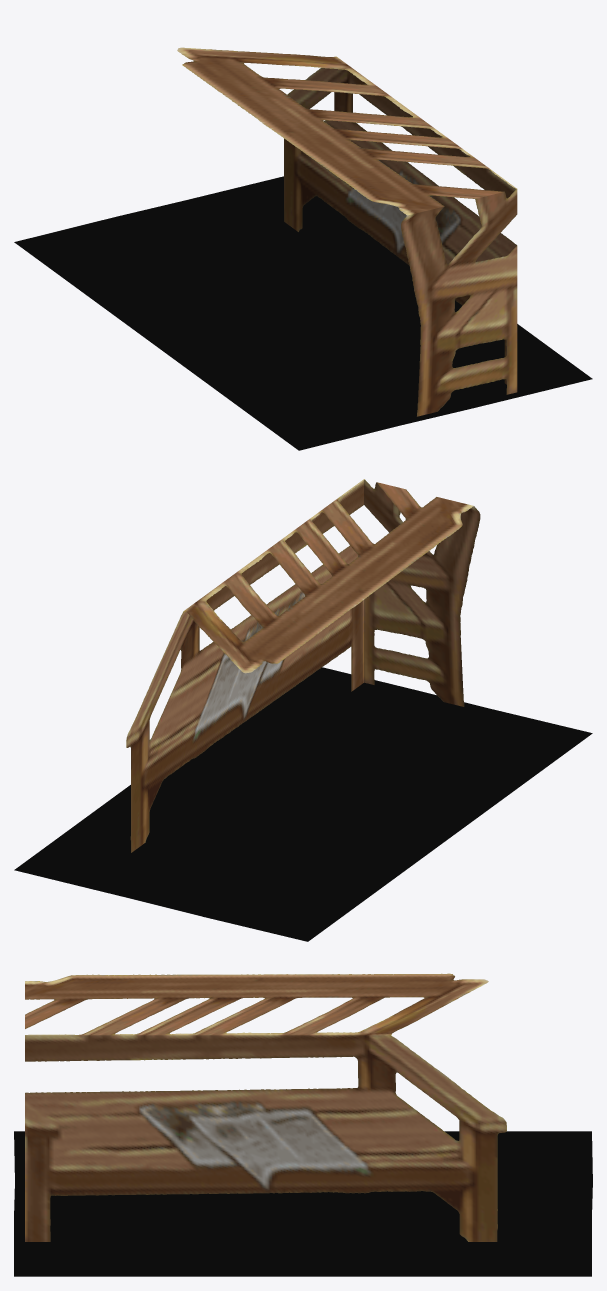
The model's file is K1_oldchair3.FBX.
The picture shows the model from 3 angles, top to bottom: view 1: azimuth 30°, elevation 25°; view 2: azimuth 150°, elevation 25°; view 3: azimuth 270°, elevation 25°; orthographic projection.
Visible parts, largest first — view 1: k1_oldchair3_0, k1_oldchair004; view 2: k1_oldchair3_0, k1_oldchair004; view 3: k1_oldchair004, k1_oldchair3_0.
Part boxes in pixels (x1,y1,x2,y2): k1_oldchair3_0: (14,176,592,450); k1_oldchair004: (177,47,517,416); k1_oldchair3_0: (14,667,592,941); k1_oldchair004: (126,479,480,852); k1_oldchair004: (25,973,506,1241); k1_oldchair3_0: (14,1131,592,1276).
Bounding box in the file's own units: 1.44 × 0.9754 × 2.43.
